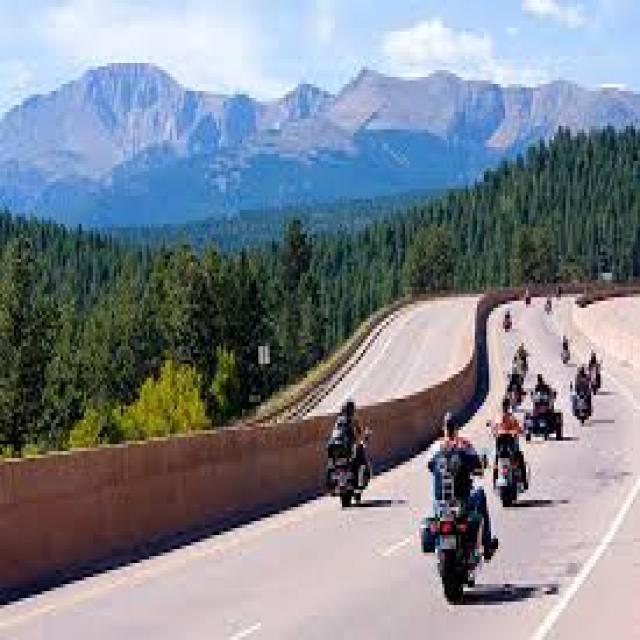Bike: (422, 480, 490, 598), (324, 428, 373, 508), (489, 422, 530, 508), (522, 391, 566, 441), (567, 385, 593, 427)
